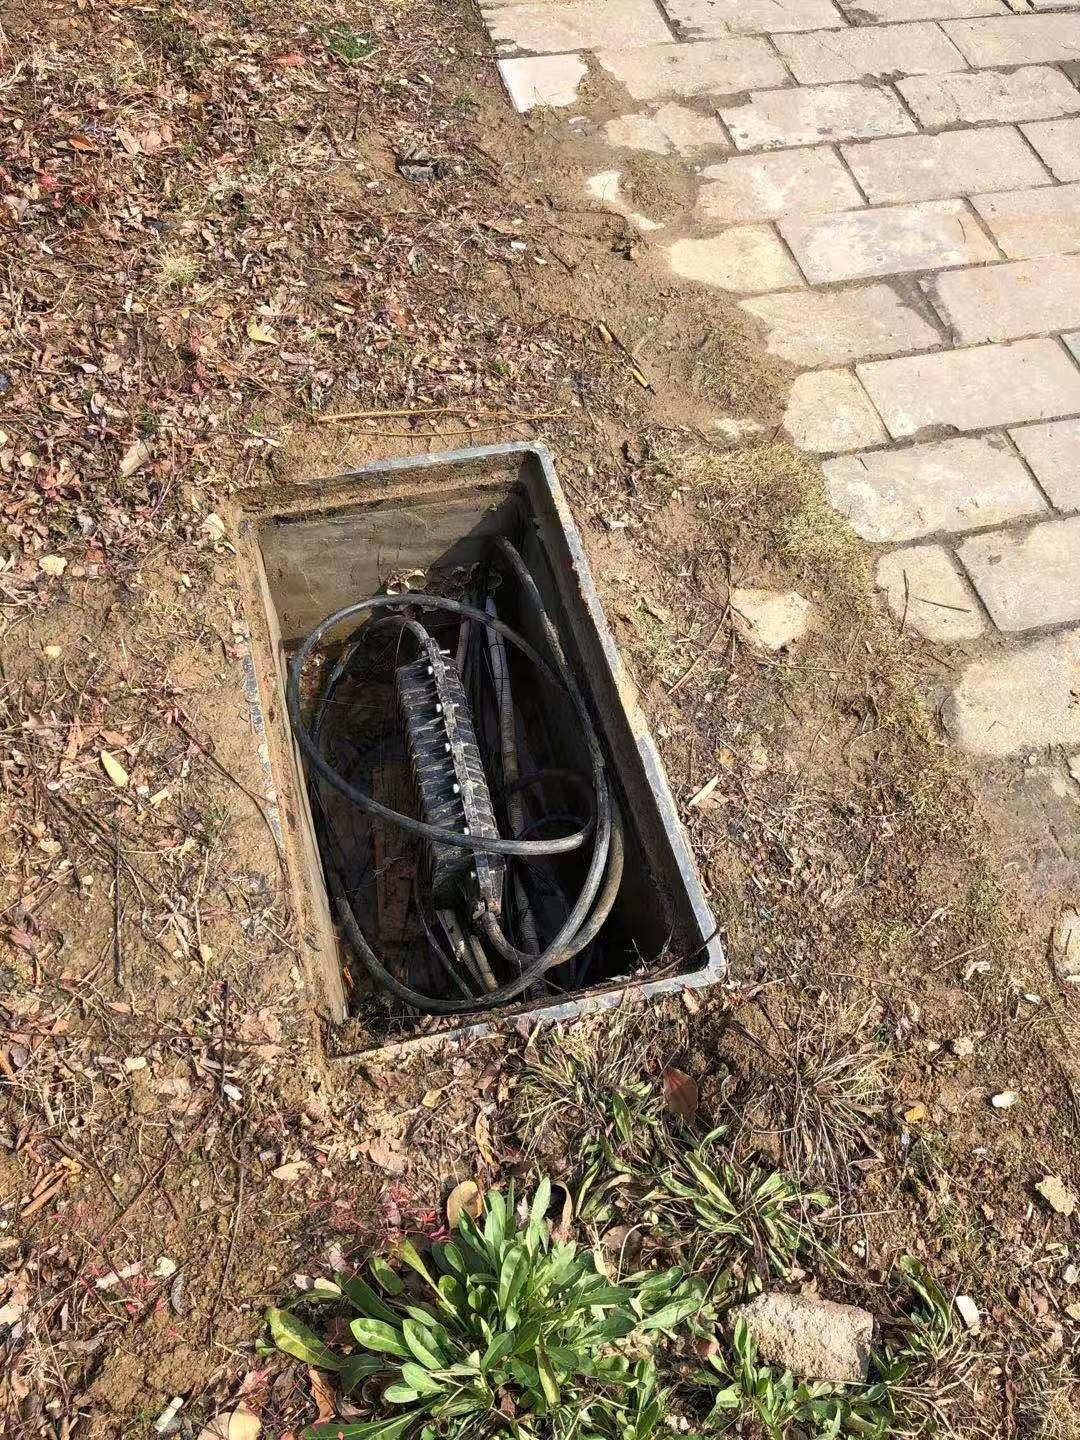wellcover: (196, 431, 760, 1094)
